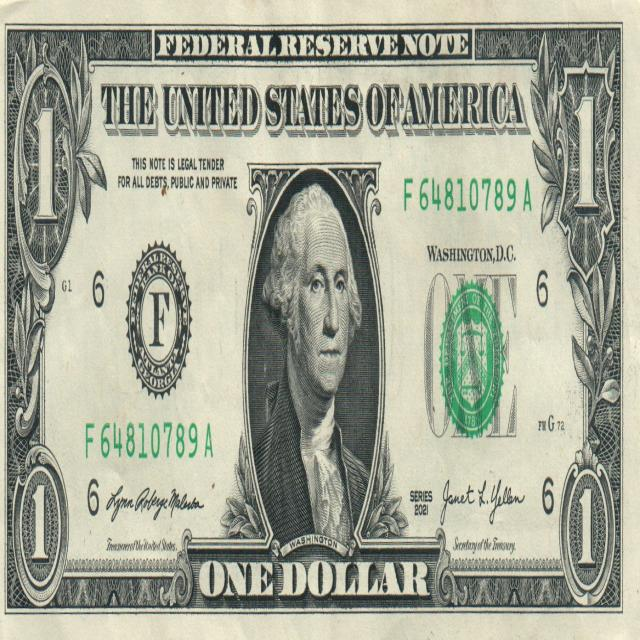SerialNumber: (404, 178, 531, 211), (86, 422, 198, 459)
